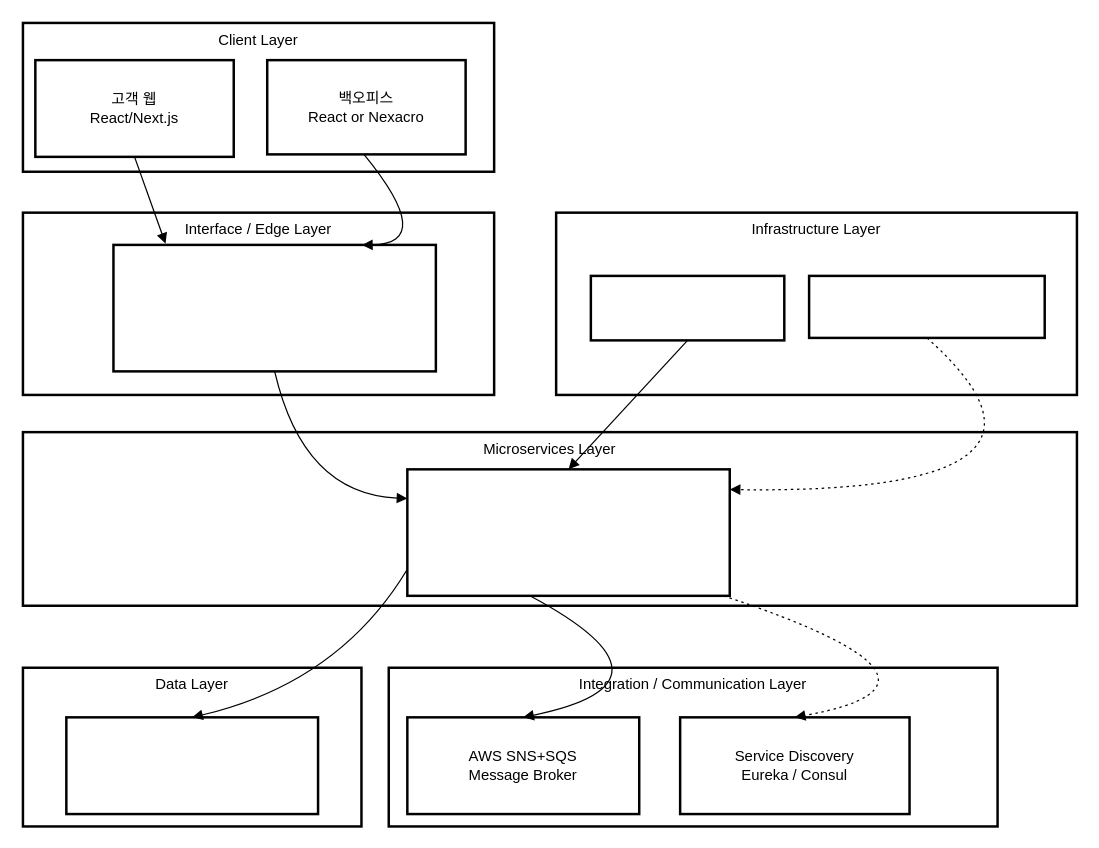
The diagram is 1099 pixels wide and 848 high, and some of its shapes have lost their labels. Here are the shapes that lost their labels. From the top down, the centre of each, then its label:
the point at 274,307: API Gateway Spring Cloud Gateway / Kong
the point at 687,307: AWS ECS(Pod)
the point at 926,306: Monitoring Prometheus + Grafana / ELK
the point at 567,531: 각 업무도메인 Spring Boot
the point at 191,765: DB per Service AWS Aurora RDS for Mysql
